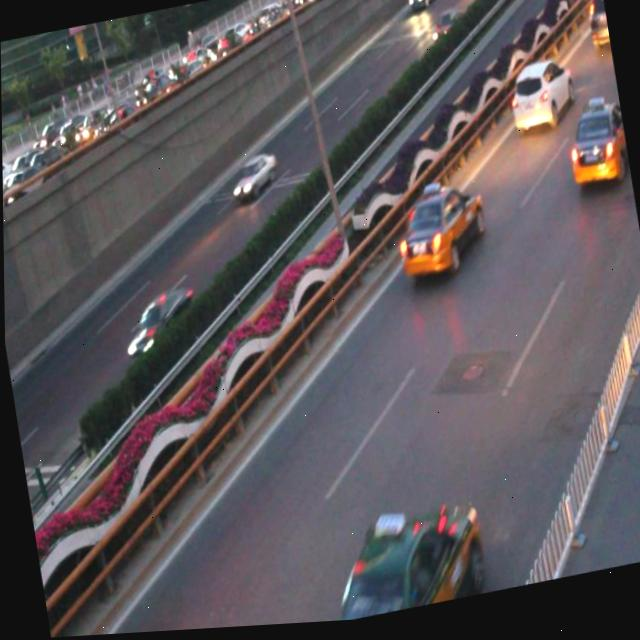car: (313, 497, 485, 626), (388, 177, 490, 289), (119, 284, 201, 362), (502, 58, 577, 143), (563, 104, 631, 196), (225, 154, 280, 206), (425, 11, 466, 52)
